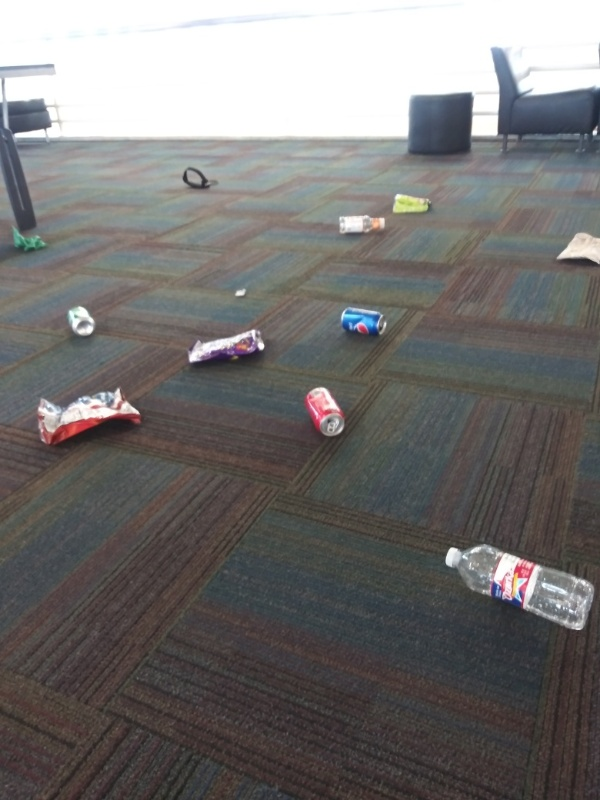bag: (32, 385, 146, 449), (181, 324, 272, 369), (553, 228, 600, 269), (389, 188, 434, 216)
bottle: (441, 542, 595, 638), (330, 213, 391, 239)
can: (302, 379, 349, 444), (338, 303, 389, 340), (62, 301, 99, 340)
